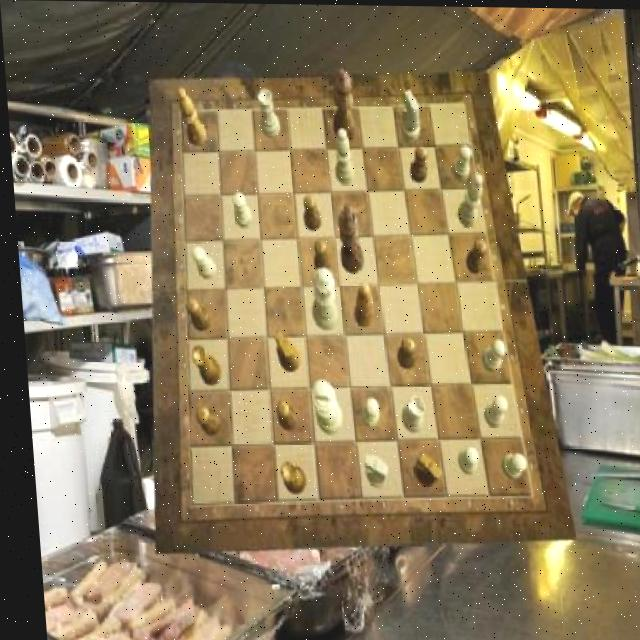bishop: (176, 87, 205, 145), (347, 282, 370, 327)
black-bishop: (332, 202, 360, 274)
black-king: (269, 330, 294, 371), (407, 452, 436, 486)
black-knight: (181, 297, 207, 332), (460, 238, 485, 274), (406, 143, 427, 181), (188, 405, 214, 434), (298, 194, 318, 231), (309, 239, 328, 275), (269, 400, 291, 431), (391, 337, 412, 369)
black-pawn: (327, 67, 354, 141)
black-queen: (185, 345, 215, 387), (273, 460, 299, 494)
black-rook: (452, 173, 482, 227), (330, 128, 352, 184)
white-bishop: (304, 379, 338, 433)
white-king: (397, 89, 420, 142), (356, 453, 381, 487)
white-knight: (475, 339, 501, 374), (475, 395, 501, 427), (187, 247, 212, 280), (448, 144, 470, 180), (492, 453, 518, 479), (229, 192, 248, 226), (449, 445, 472, 473), (355, 398, 374, 427)
white-pawn: (305, 266, 334, 329)
white-queen: (256, 89, 279, 139), (394, 394, 420, 431)
